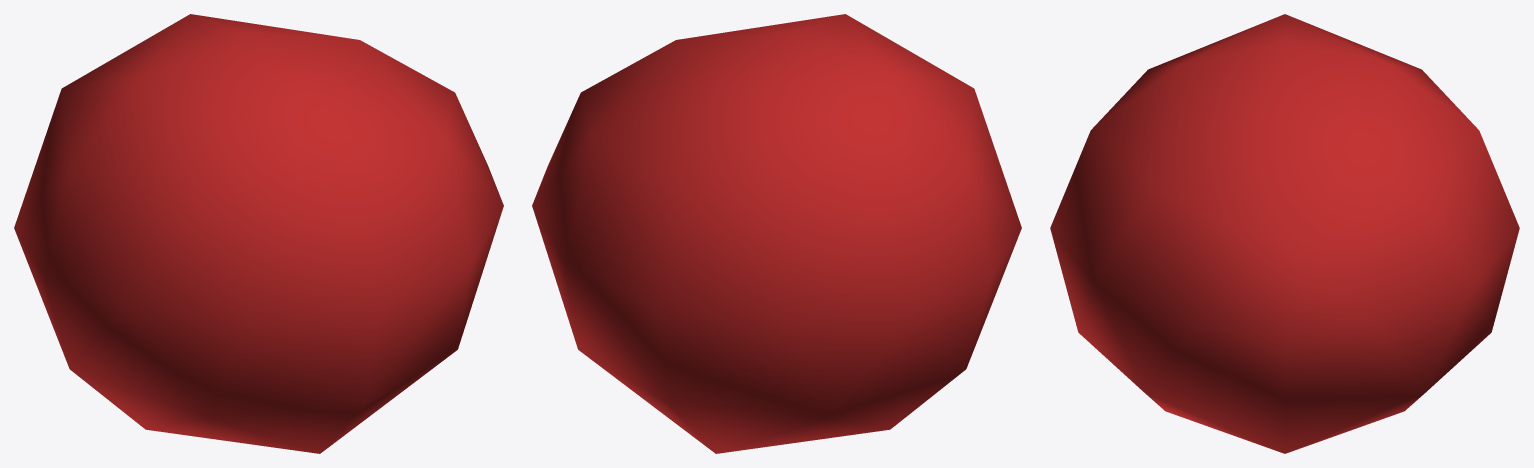
The model's file is SM_fruit_03.fbx.
3 views of the same model, side by side, from view 1: azimuth 30°, elevation 25°; view 2: azimuth 150°, elevation 25°; view 3: azimuth 270°, elevation 25° (orthographic). The views are drawn at different scales.
Parts seen in each view (by area): view 1: GeoSphere005; view 2: GeoSphere005; view 3: GeoSphere005.
Part boxes in pixels (bbox=[...]): GeoSphere005: bbox=[14, 14, 503, 453]; GeoSphere005: bbox=[532, 14, 1021, 453]; GeoSphere005: bbox=[1050, 14, 1519, 453].
Bounding box in the file's own units: 6.17 × 5.42 × 5.91.
